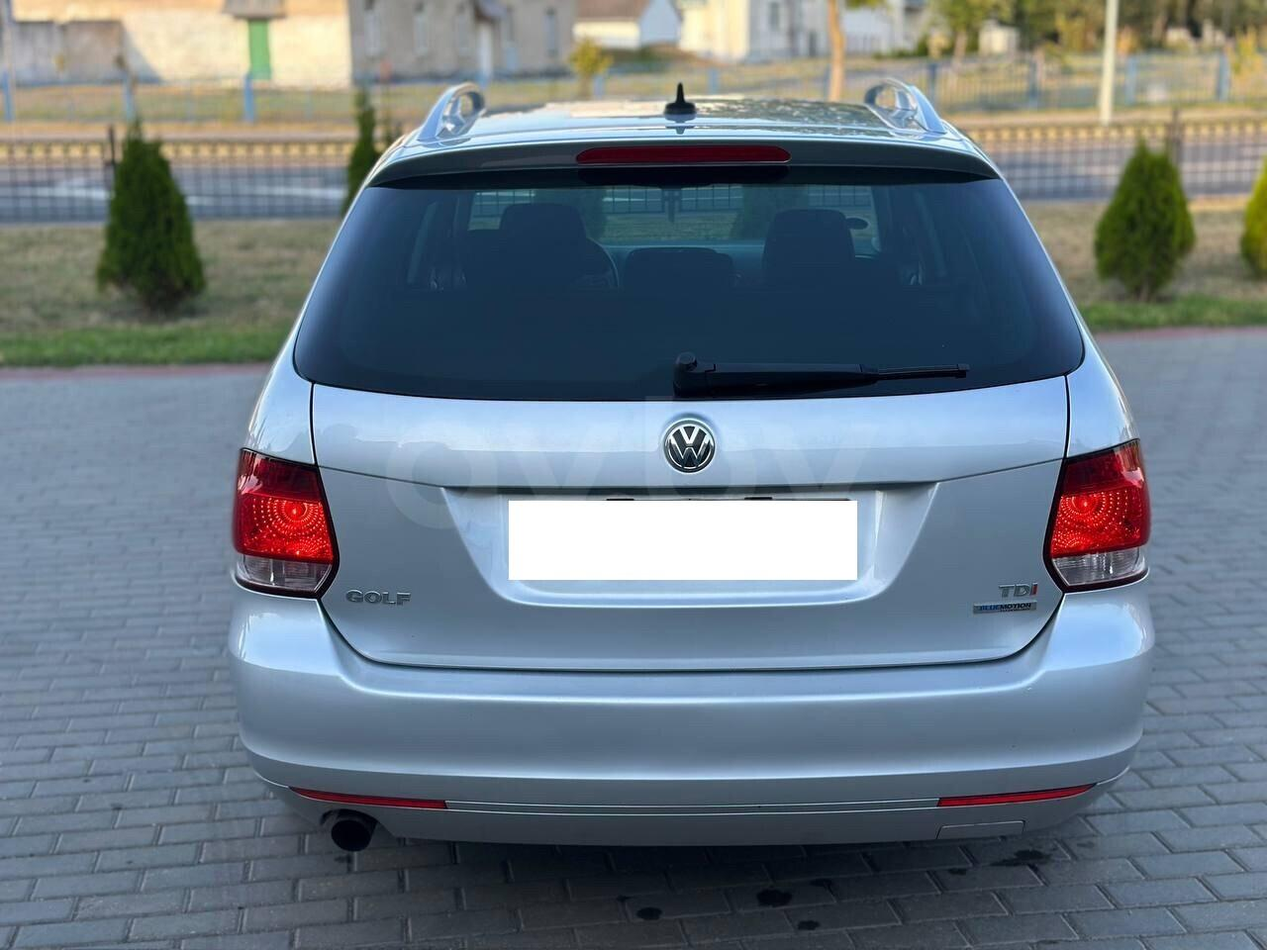Golf_2008-2013: (211, 93, 1168, 863)
